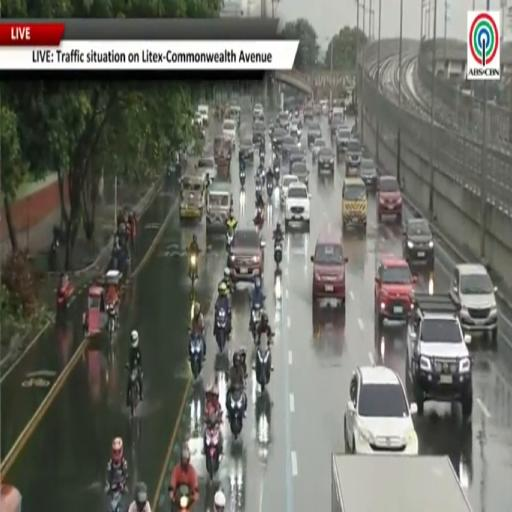car: (406, 294, 473, 419), (344, 366, 418, 455), (451, 264, 498, 347), (375, 255, 417, 327), (311, 231, 347, 311), (228, 229, 264, 283), (403, 218, 434, 269), (342, 178, 367, 232), (376, 175, 402, 223), (285, 182, 310, 231), (280, 174, 298, 206), (360, 157, 377, 190), (346, 138, 362, 173), (291, 160, 309, 187), (198, 156, 217, 181), (318, 147, 334, 175), (336, 126, 350, 157), (288, 146, 306, 170), (271, 127, 288, 152), (282, 135, 297, 162), (222, 120, 236, 146), (307, 123, 322, 147), (239, 137, 253, 162), (252, 121, 266, 146), (312, 138, 326, 163), (330, 106, 345, 129), (277, 112, 290, 132), (229, 105, 241, 126), (290, 118, 302, 139), (330, 119, 343, 137), (198, 105, 208, 125), (319, 99, 329, 115), (303, 106, 313, 122), (253, 104, 263, 119), (193, 112, 202, 126), (313, 103, 321, 116)
jeepney: (206, 182, 232, 234), (180, 175, 205, 218)
motorcycle: (204, 422, 221, 479), (229, 390, 245, 439), (256, 345, 271, 392), (189, 334, 203, 379), (56, 282, 73, 314), (216, 308, 228, 353), (129, 367, 139, 418), (250, 303, 261, 343), (175, 485, 191, 511), (106, 304, 117, 341), (189, 254, 198, 286), (110, 489, 122, 511), (254, 206, 264, 229), (274, 240, 282, 266), (226, 230, 233, 252), (239, 168, 246, 188), (273, 164, 280, 182), (267, 181, 273, 202), (255, 181, 262, 195), (259, 152, 264, 166), (297, 128, 301, 139)
tricycle: (83, 284, 106, 337)
truck: (332, 454, 471, 511), (214, 136, 232, 181)
